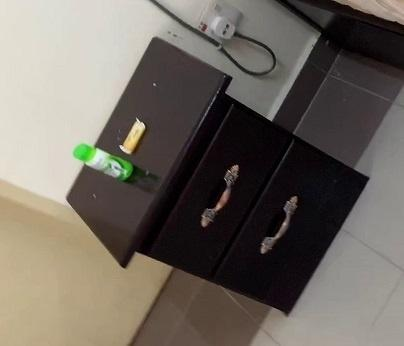cabinet_door: (265, 118, 345, 312), (195, 102, 254, 281)
handle: (198, 161, 243, 232), (258, 193, 300, 258)
